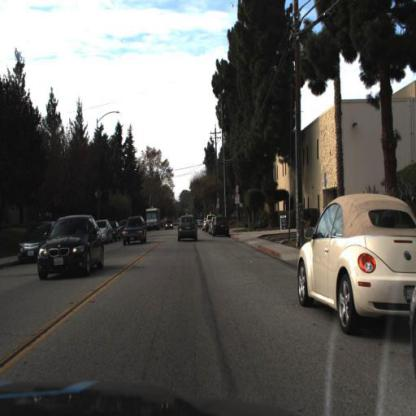car: (292, 182, 414, 346), (293, 188, 415, 336), (33, 208, 111, 284), (37, 212, 106, 277), (12, 215, 48, 270), (170, 211, 202, 245), (119, 212, 147, 249), (121, 216, 148, 246), (208, 212, 231, 244), (173, 215, 198, 243), (110, 214, 122, 247), (98, 219, 113, 245), (161, 217, 176, 232)
truck: (144, 204, 159, 232)
